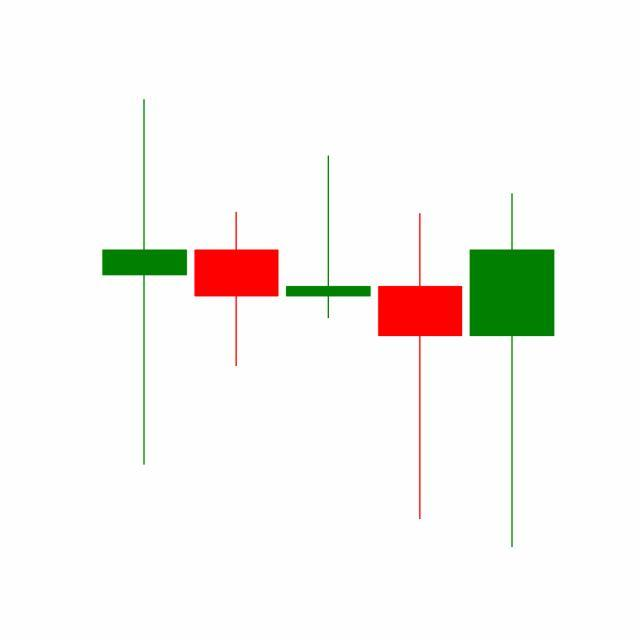Spinning Top: (374, 210, 468, 524)
